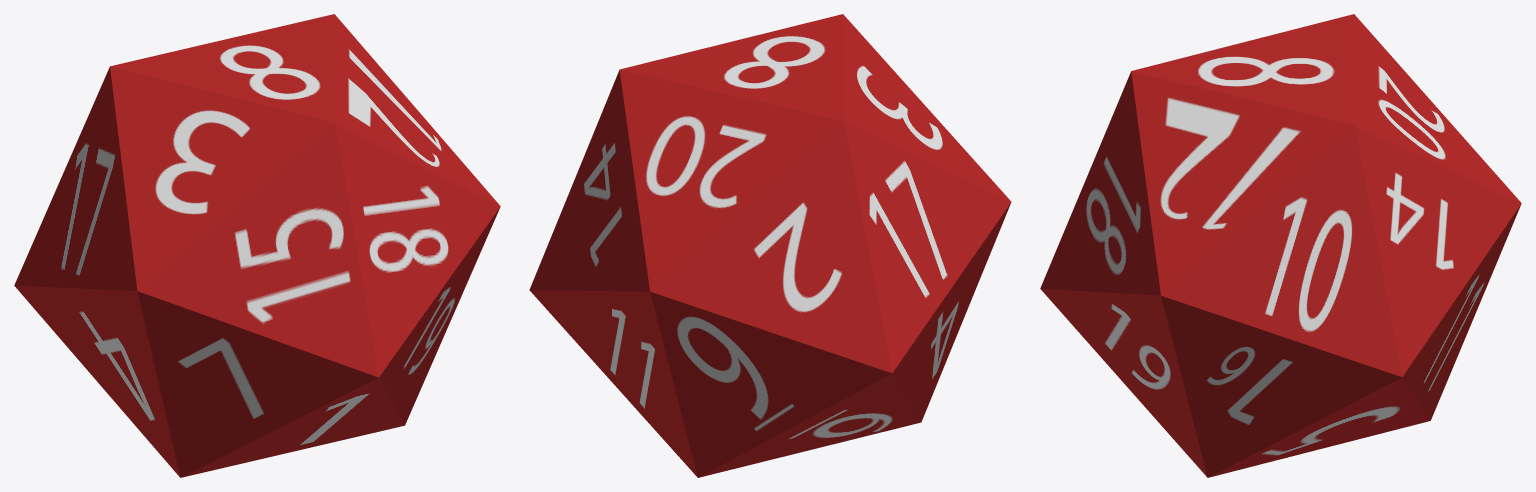
The picture shows the model from 3 angles, left to right: view 1: azimuth 30°, elevation 25°; view 2: azimuth 150°, elevation 25°; view 3: azimuth 270°, elevation 25°; orthographic projection.
Parts seen in each view (by area): view 1: pPlatonic1; view 2: pPlatonic1; view 3: pPlatonic1.
Boxes of the visible parts, x1,y1,x2,y2 form: pPlatonic1: (14,14,500,477); pPlatonic1: (529,14,1011,477); pPlatonic1: (1040,14,1521,477).
Size of the model in its own units: 0.4994 by 0.4689 by 0.5736.
